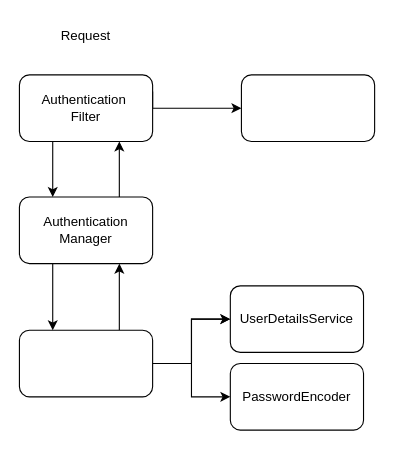
Image size: 394x450. Some labels were removed from this diagram. Here are the shapes that lost their labels. From the top down, the centre of each, then its label:
At (x=307, y=108): "Security Context Holder".
At (x=85, y=363): "Authentication Provider".
